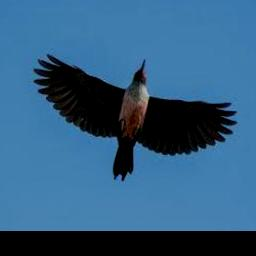Woodpecker: (34, 54, 237, 181)
